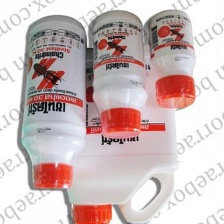insecticide: (55, 39, 181, 224), (14, 10, 91, 193), (89, 6, 150, 142), (145, 7, 200, 109)
